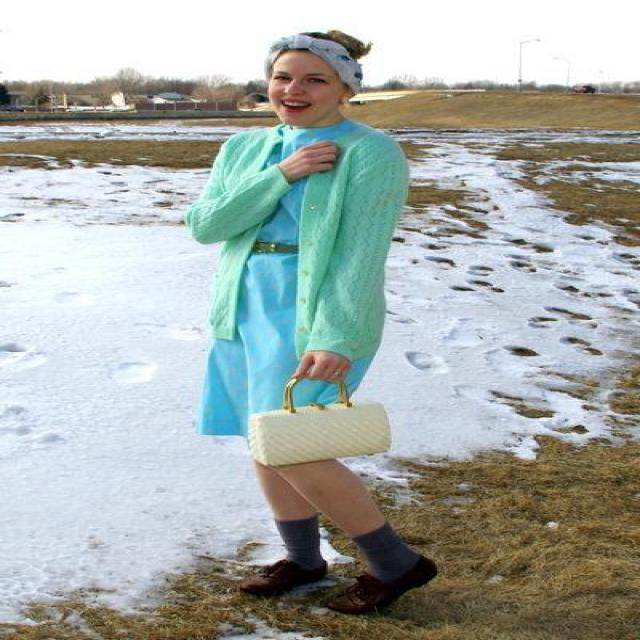bag: (245, 397, 390, 465)
hat: (270, 32, 364, 91)
jacket: (194, 121, 436, 435)
shoe: (232, 558, 437, 617)
